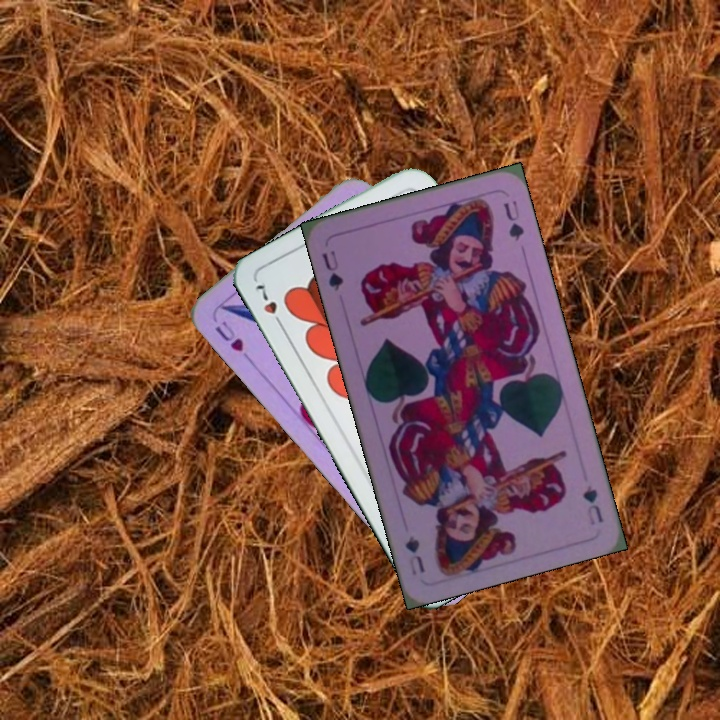GU: (317, 246, 346, 294), (579, 481, 606, 528)
H7: (251, 280, 287, 332)
HU: (210, 316, 254, 364)
